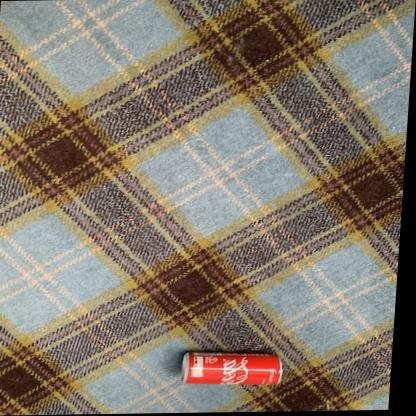trash: (182, 352, 281, 384)
